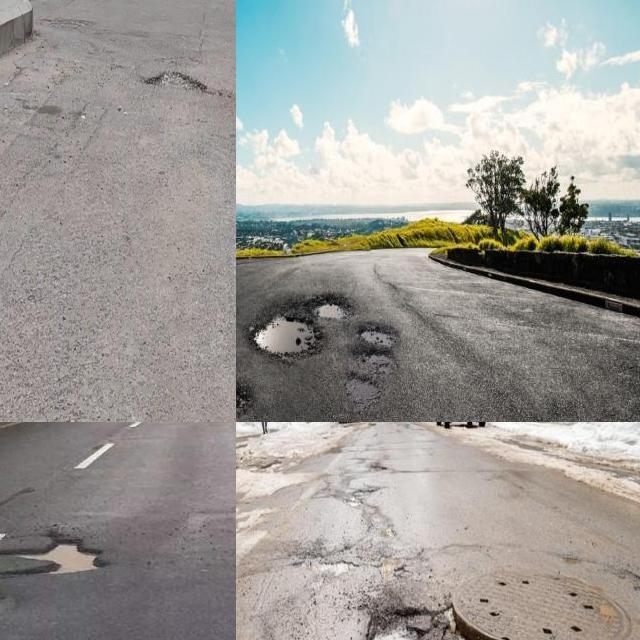Pothole: (13, 539, 104, 574), (255, 313, 315, 358), (141, 68, 209, 92), (346, 372, 380, 403), (358, 327, 396, 352), (313, 301, 343, 319), (362, 352, 390, 370)
